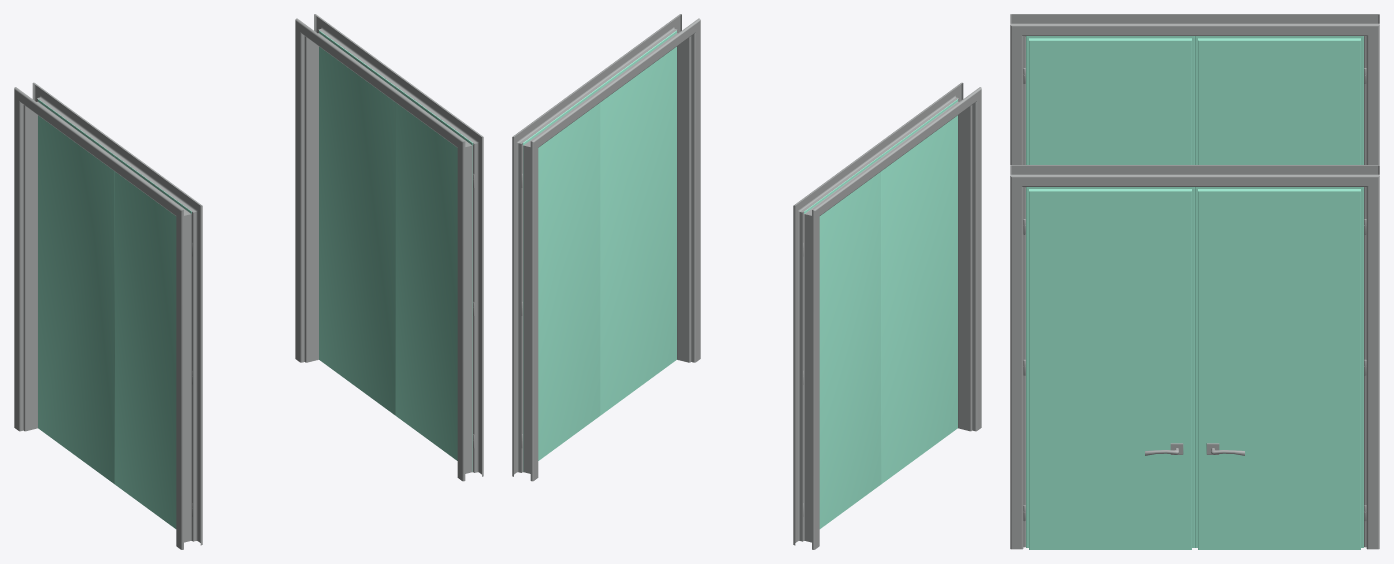
The model's file is refuse_door.fbx.
3 views of the same model, side by side, from view 1: azimuth 30°, elevation 25°; view 2: azimuth 150°, elevation 25°; view 3: azimuth 270°, elevation 25° (orthographic). The views are drawn at different scales.
Parts seen in each view (by area): view 1: refuse_door4, refuse_door2, ram, ram.001, refuse_door3, refuse_door1; view 2: refuse_door3, refuse_door1, ram, ram.001, refuse_door4, refuse_door2; view 3: refuse_door3, refuse_door4, refuse_door1, refuse_door2, ram.001, ram.
Part boxes in pixels (<box>): refuse_door4: <box>319,30,395,415</box>; refuse_door2: <box>38,99,114,483</box>; ram: <box>14,82,202,549</box>; ram.001: <box>295,14,483,481</box>; refuse_door3: <box>395,87,474,471</box>; refuse_door1: <box>114,155,192,528</box>; refuse_door3: <box>600,30,676,415</box>; refuse_door1: <box>881,99,957,483</box>; ram: <box>793,82,981,549</box>; ram.001: <box>512,14,700,481</box>; refuse_door4: <box>521,87,600,471</box>; refuse_door2: <box>803,155,881,528</box>; refuse_door3: <box>1023,187,1194,549</box>; refuse_door4: <box>1195,187,1366,549</box>; refuse_door1: <box>1023,36,1194,164</box>; refuse_door2: <box>1195,36,1366,164</box>; ram.001: <box>1010,165,1379,549</box>; ram: <box>1010,14,1379,164</box>.
Bounding box in the file's own units: 201 × 208 × 186.
